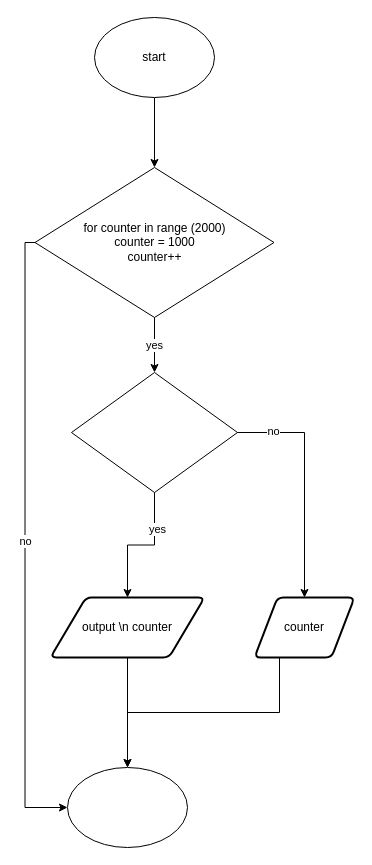
This 372x865 diagram has some shape labels left out. Each missing label, with the box of its shape:
if counter % 5 == 0: (70, 372, 238, 492)
stop: (66, 766, 188, 848)
